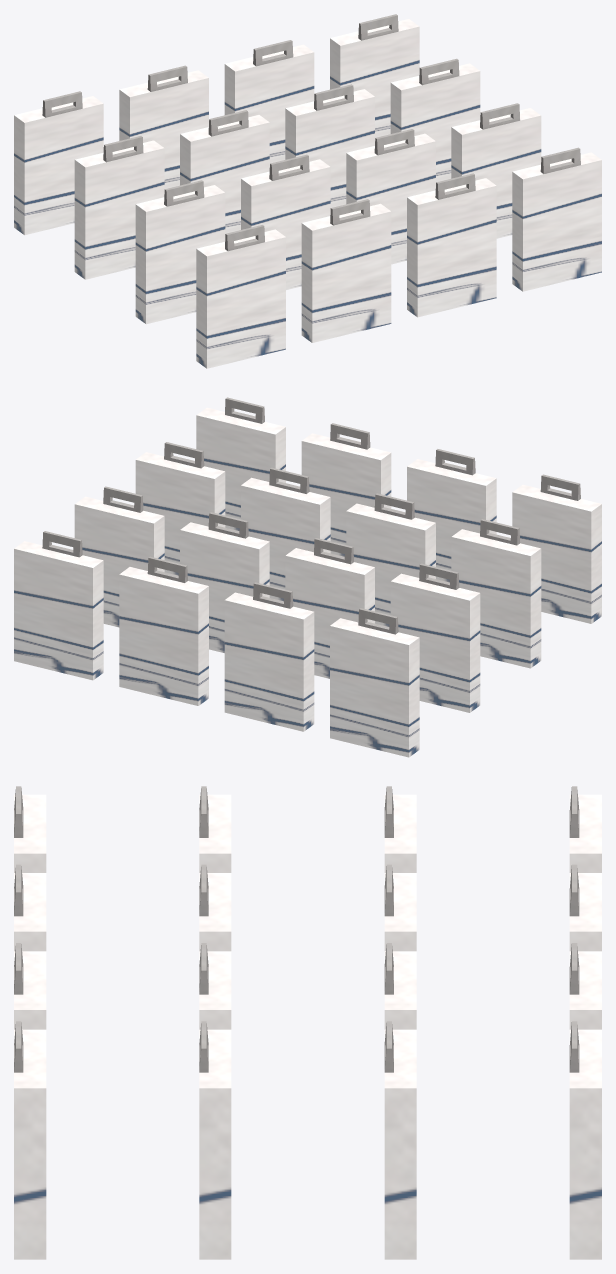
File: ElectronicYellow_Item.fbx
3 views of the same model, one above another, from view 1: azimuth 30°, elevation 25°; view 2: azimuth 150°, elevation 25°; view 3: azimuth 270°, elevation 25° (orthographic). The views are drawn at different scales.
Visible parts, largest first — view 1: electronicYellow_item21; view 2: electronicYellow_item21; view 3: electronicYellow_item21.
Part boxes in pixels (bbox=[...]): electronicYellow_item21: bbox=[14, 14, 601, 368]; electronicYellow_item21: bbox=[14, 397, 601, 757]; electronicYellow_item21: bbox=[14, 786, 601, 1259].
Size of the model in its own units: 75.03 by 23.26 by 63.48.
